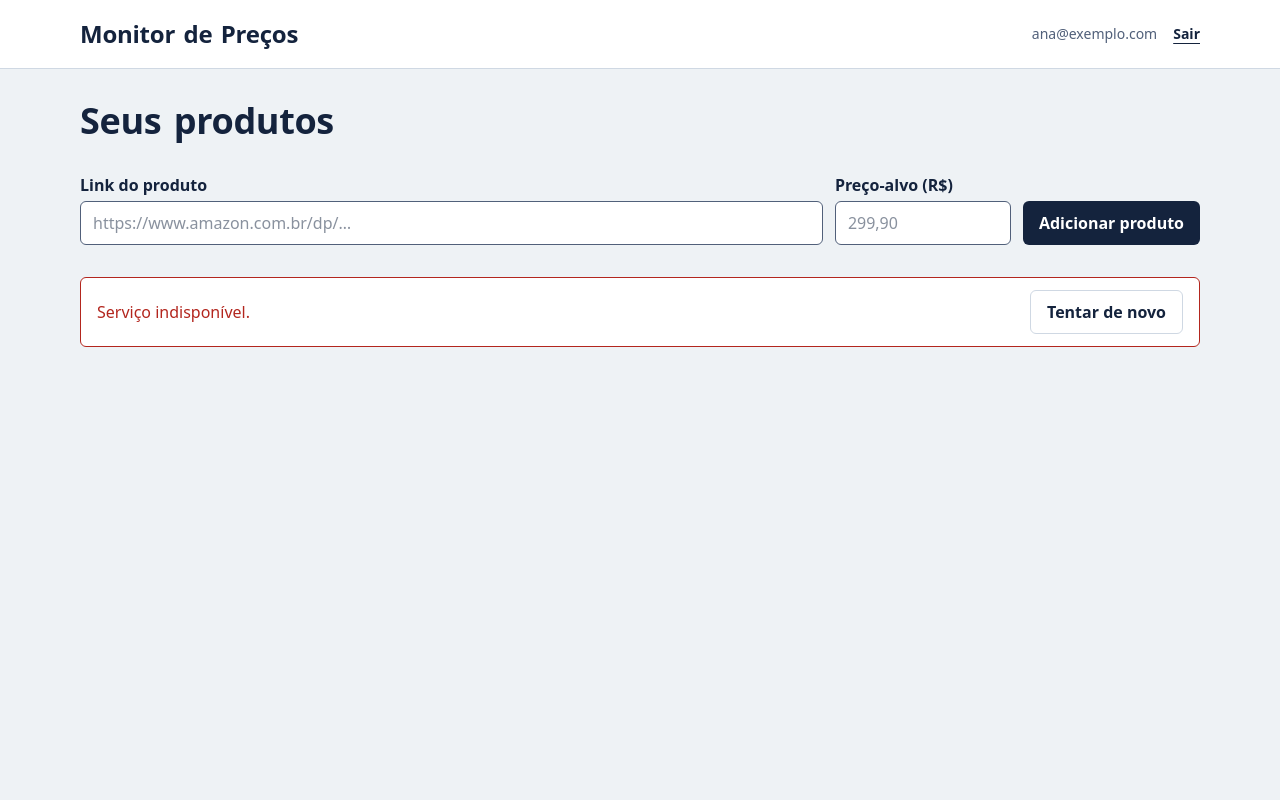
Test: falha ao listar permite tentar de novo
The image size is (1280, 800).
Expected: the message shows "Serviço indisponível.", [97,301,250,323]
Click the button "Tentar de novo".
click(1106, 312)  # box [1030,290,1183,334]
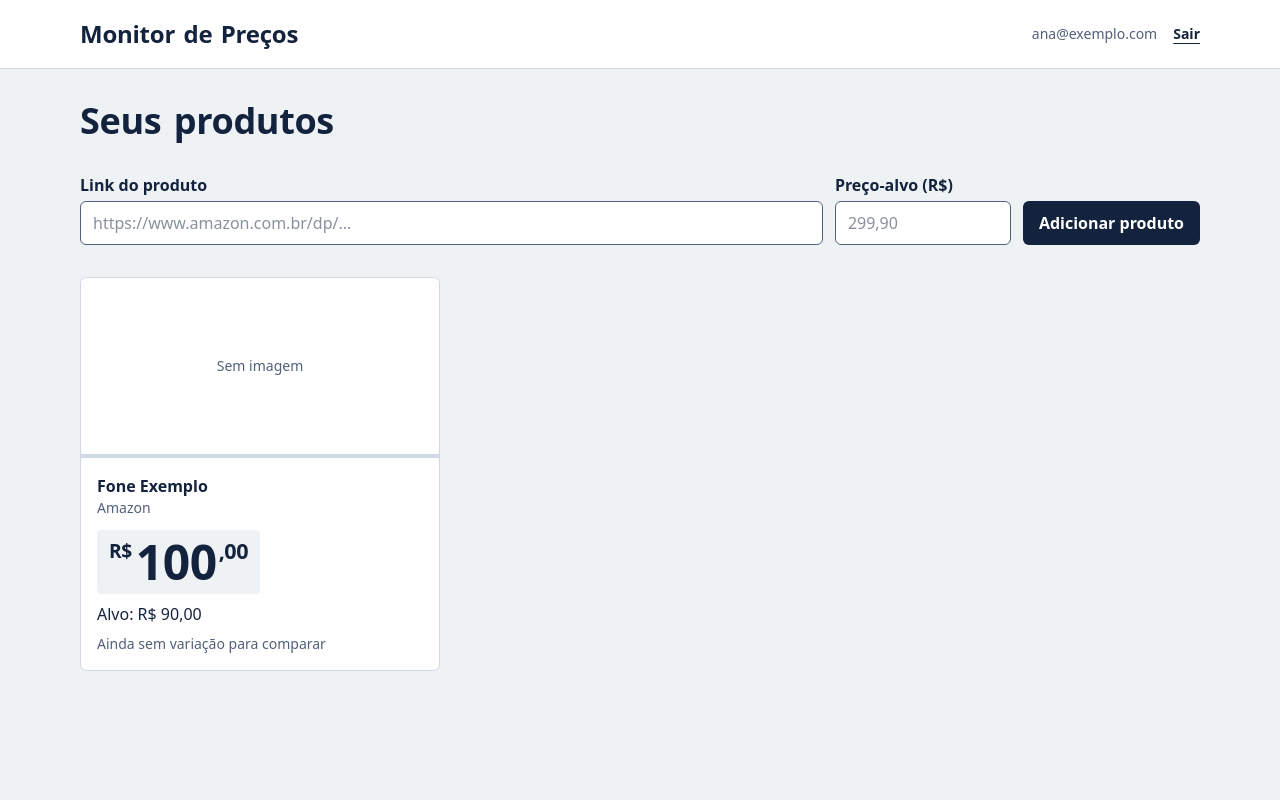
Result: the link "Fone Exemplo" is shown at [97,475,208,497]
